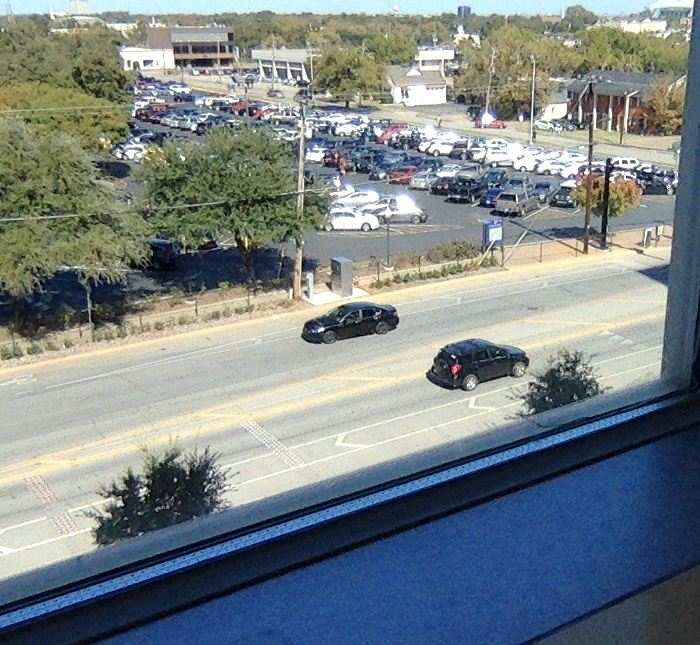car: (300, 300, 400, 345)
